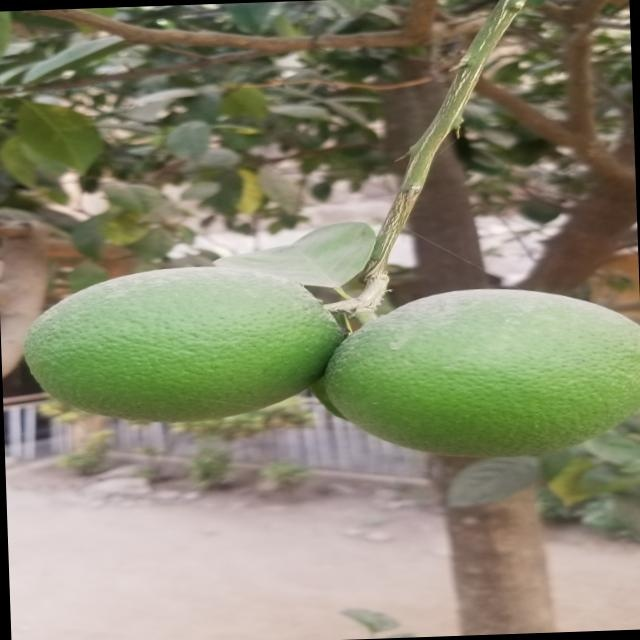agrume: (320, 283, 628, 465), (18, 260, 343, 432)
